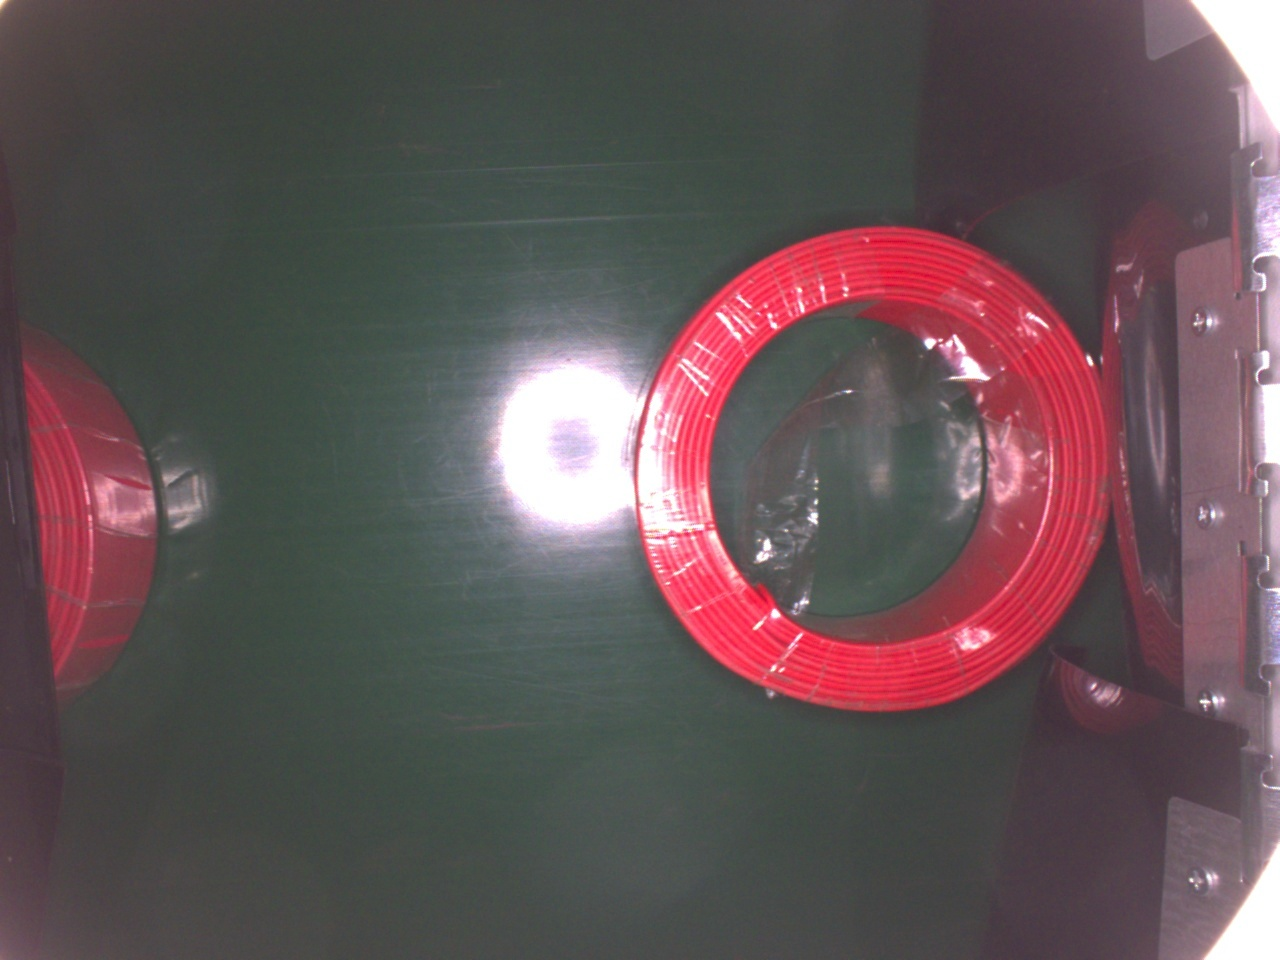red: (626, 224, 1108, 716), (16, 322, 158, 717)
